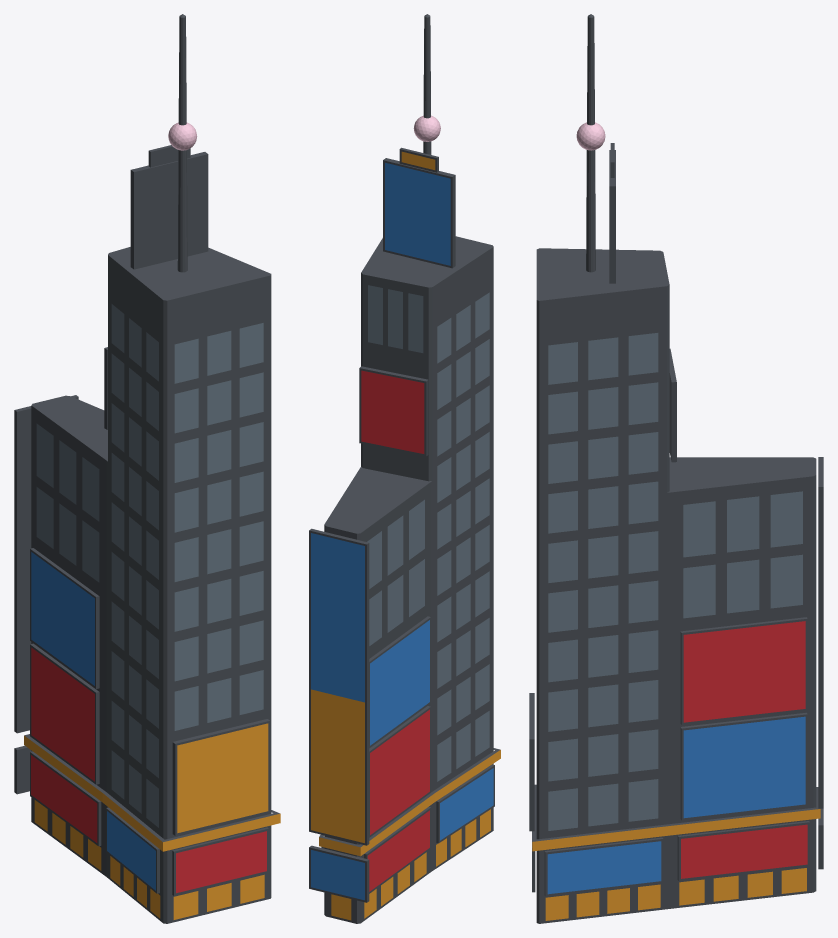
Rendered from nyc-one-times-square.glb.
The picture shows the model from 3 angles, left to right: view 1: azimuth 30°, elevation 25°; view 2: azimuth 150°, elevation 25°; view 3: azimuth 270°, elevation 25°; orthographic projection. The views are drawn at different scales.
Parts seen in each view (by area): view 1: One Times Square; view 2: One Times Square; view 3: One Times Square.
Boxes of the visible parts, left/top/right/bottom form: One Times Square: left=14, top=14, right=280, bottom=923; One Times Square: left=309, top=14, right=500, bottom=923; One Times Square: left=529, top=14, right=823, bottom=923.
Bounding box in the file's own units: 21.06 × 147 × 44.65.
